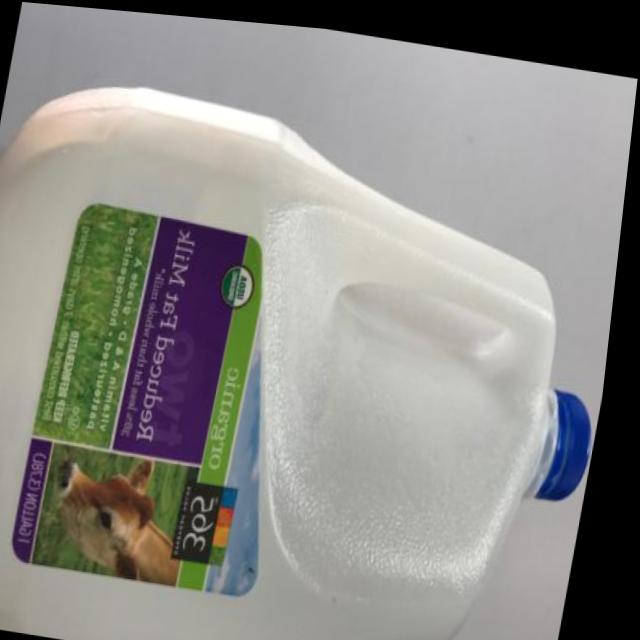plastic: (0, 31, 637, 640)
